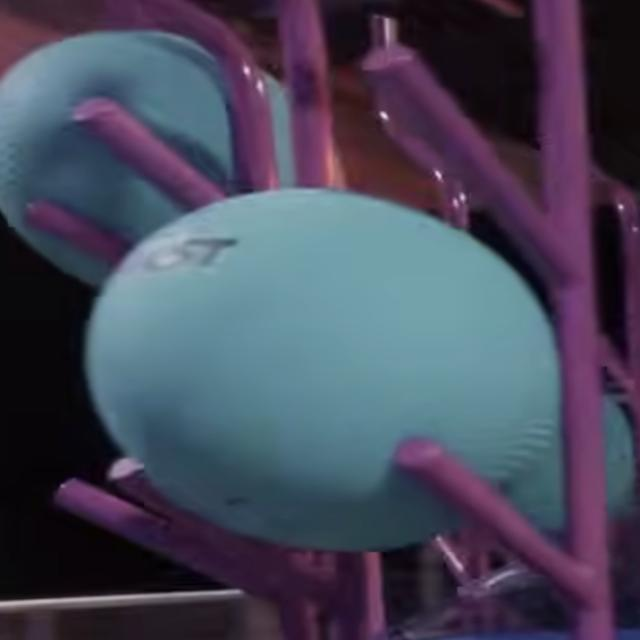Algae: (85, 189, 560, 548), (0, 32, 296, 288), (495, 393, 638, 532)
Reef: (365, 44, 560, 286), (108, 456, 340, 612), (389, 437, 598, 608), (55, 478, 282, 609), (77, 96, 225, 212), (22, 198, 132, 265), (374, 16, 401, 133), (432, 534, 465, 586)
